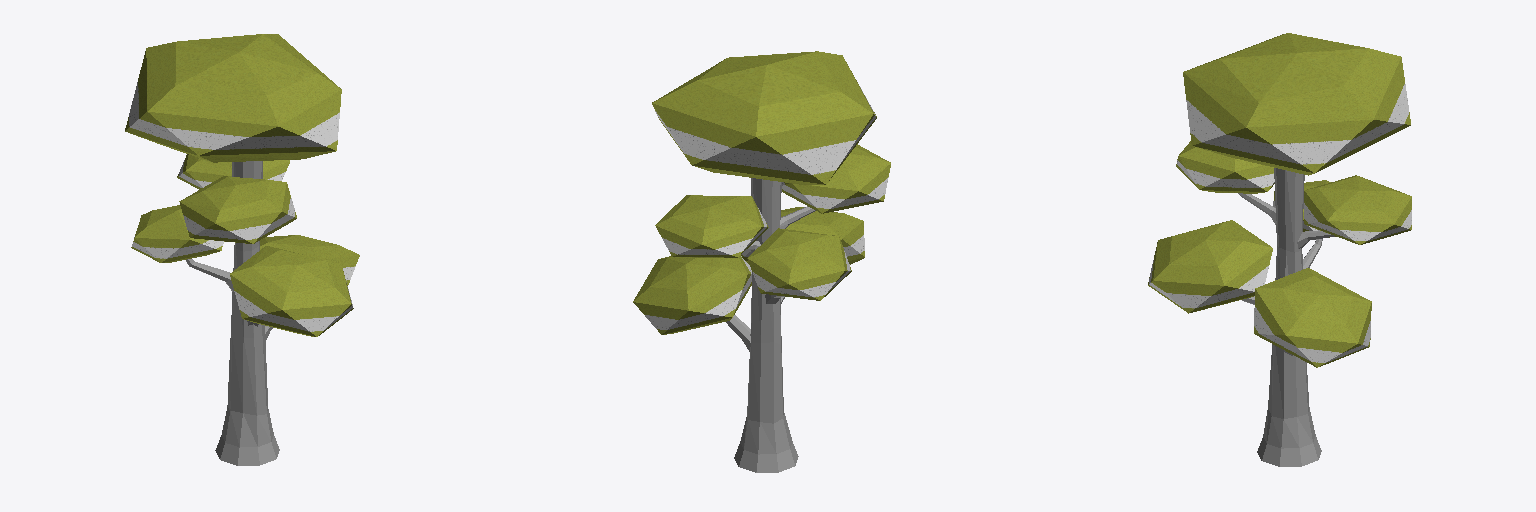
The picture shows the model from 3 angles: view 1: azimuth 30°, elevation 25°; view 2: azimuth 150°, elevation 25°; view 3: azimuth 270°, elevation 25°; orthographic projection.
Visible parts, largest first — view 1: Icosphere.004; view 2: Icosphere.004; view 3: Icosphere.004.
Boxes of the visible parts, x1,y1,x2,y2 form: Icosphere.004: [125, 34, 359, 465]; Icosphere.004: [633, 51, 890, 472]; Icosphere.004: [1148, 33, 1411, 466].
Bounding box in the file's own units: 1.82 × 3.23 × 1.95.
Materials: 2 (1 with a texture image).